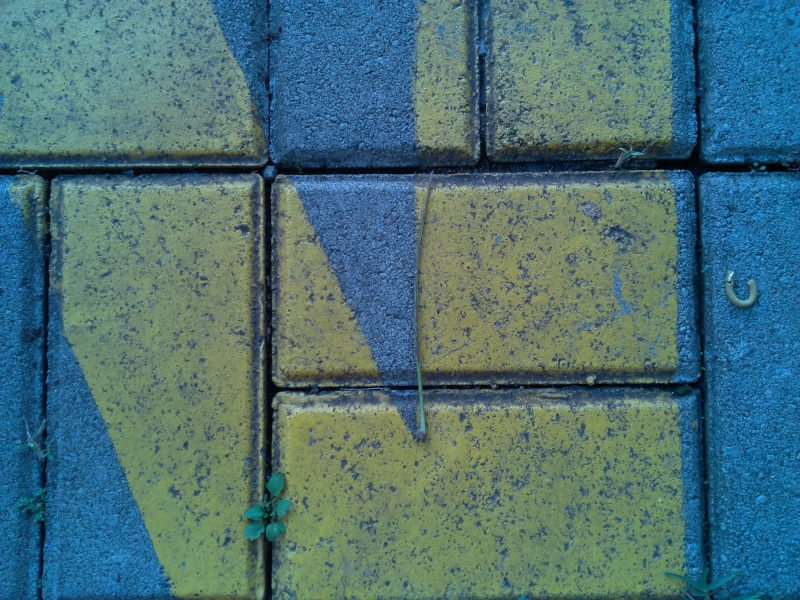Weed: (237, 468, 298, 552), (665, 564, 736, 600), (13, 416, 59, 468), (12, 485, 55, 532), (606, 137, 647, 178), (744, 157, 772, 184)
